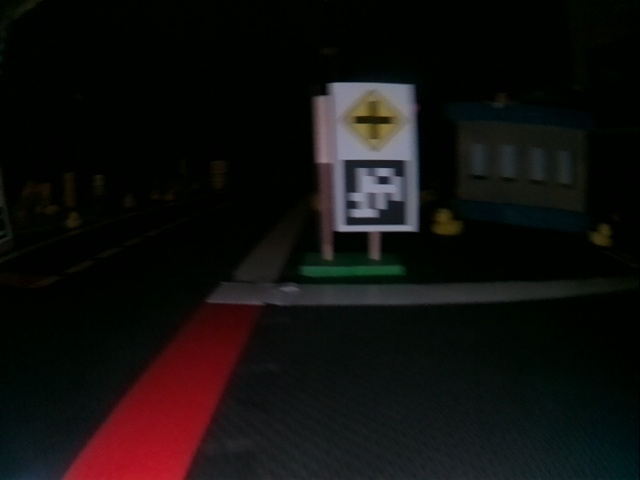Duckie: (432, 209, 463, 235), (588, 224, 612, 246), (66, 214, 82, 228), (165, 194, 173, 200)
Intersection sign: (340, 88, 408, 155)
QR code: (341, 158, 410, 229)
